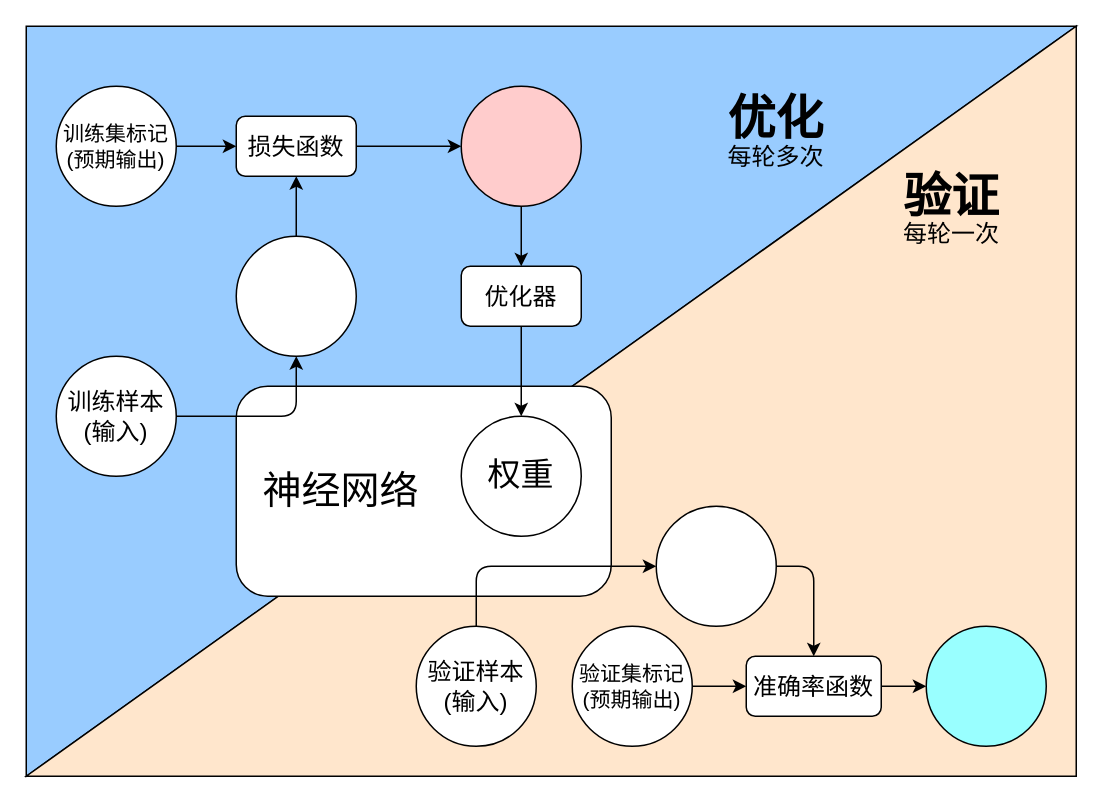
Image size: 1103x804. Some labels were removed from this diagram. The shapes that lost their labels are listed below. From the top down, each one's box as (x1, y1, x2, y2) in pixels, then its label:
(460, 85, 581, 206): 差距 (得分)
(235, 235, 356, 356): 预测值 (训练输出)
(655, 505, 776, 626): 预测值 (验证输出)
(925, 625, 1046, 746): 准确率 (得分)
